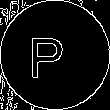P_N: (36, 29, 74, 81)
